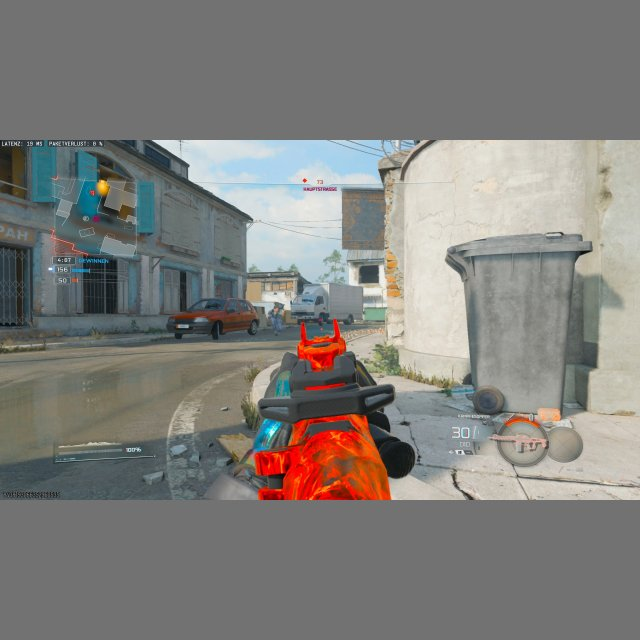player: (267, 302, 284, 337), (345, 313, 354, 323)
